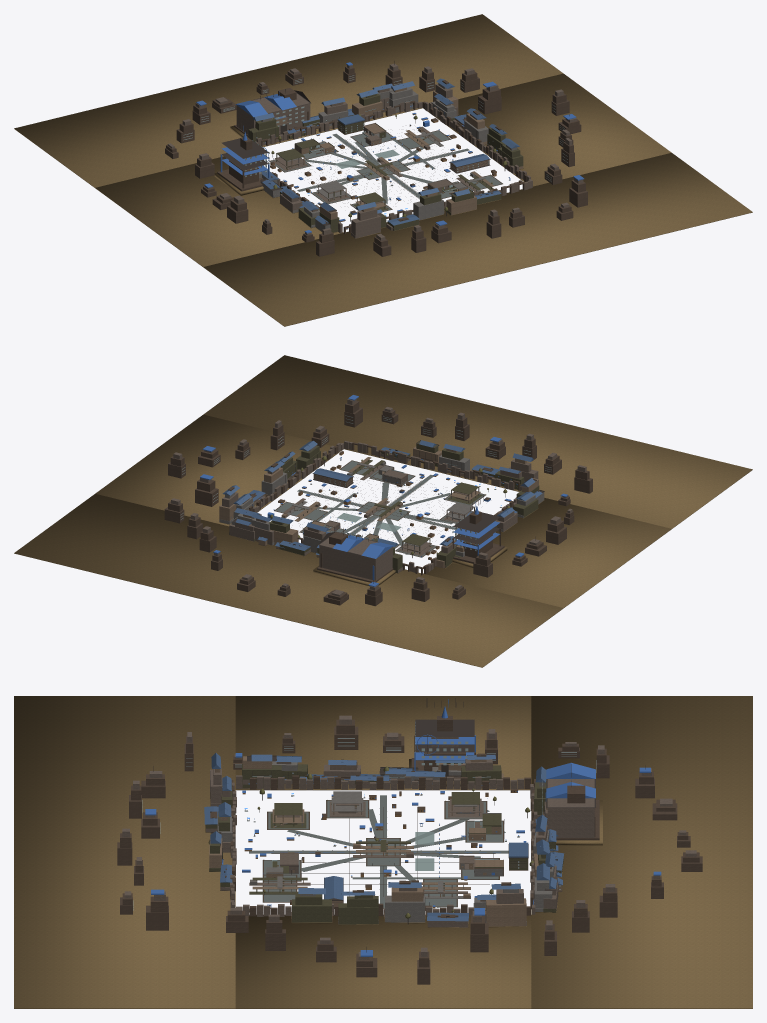
Rendered from onsengai-lod0.glb.
3 views of the same model, one above another, from view 1: azimuth 30°, elevation 25°; view 2: azimuth 150°, elevation 25°; view 3: azimuth 270°, elevation 25° (orthographic). The views are drawn at different scales.
Visible parts, largest first — view 1: HB_onsengai_LOD0_terrain, HB_onsengai_LOD0_wall_alt, HB_onsengai_LOD0_wall, HB_onsengai_LOD0_wall_weathered, HB_onsengai_LOD0_wall_cool, HB_onsengai_LOD0_road, HB_onsengai_LOD0_roof, HB_onsengai_LOD0_wall_warm, HB_onsengai_LOD0_LANDMARK_0_wall, HB_onsengai_LOD0_LANDMARK_1_wall_alt, HB_onsengai_LOD0_accent, HB_onsengai_LOD0_LANDMARK_1_trim (+3 smaller); view 2: HB_onsengai_LOD0_terrain, HB_onsengai_LOD0_wall_alt, HB_onsengai_LOD0_wall, HB_onsengai_LOD0_wall_weathered, HB_onsengai_LOD0_road, HB_onsengai_LOD0_roof, HB_onsengai_LOD0_wall_warm, HB_onsengai_LOD0_wall_cool, HB_onsengai_LOD0_LANDMARK_0_wall, HB_onsengai_LOD0_accent, HB_onsengai_LOD0_LANDMARK_1_trim, HB_onsengai_LOD0_LANDMARK_1_wall_alt (+3 smaller); view 3: HB_onsengai_LOD0_terrain, HB_onsengai_LOD0_wall_alt, HB_onsengai_LOD0_wall, HB_onsengai_LOD0_wall_weathered, HB_onsengai_LOD0_road, HB_onsengai_LOD0_roof, HB_onsengai_LOD0_wall_warm, HB_onsengai_LOD0_wall_cool, HB_onsengai_LOD0_LANDMARK_0_wall, HB_onsengai_LOD0_trim, HB_onsengai_LOD0_LANDMARK_1_trim, HB_onsengai_LOD0_accent (+4 smaller).
Boxes of the visible parts, x1,y1,x2,y2 form: HB_onsengai_LOD0_terrain: (14, 14, 752, 326); HB_onsengai_LOD0_wall_alt: (165, 66, 587, 256); HB_onsengai_LOD0_wall: (167, 63, 583, 240); HB_onsengai_LOD0_wall_weathered: (248, 93, 523, 232); HB_onsengai_LOD0_wall_cool: (259, 83, 516, 231); HB_onsengai_LOD0_road: (269, 130, 509, 215); HB_onsengai_LOD0_roof: (253, 78, 519, 225); HB_onsengai_LOD0_wall_warm: (276, 87, 523, 219); HB_onsengai_LOD0_LANDMARK_0_wall: (236, 93, 310, 134); HB_onsengai_LOD0_LANDMARK_1_wall_alt: (217, 137, 263, 191); HB_onsengai_LOD0_accent: (196, 62, 584, 233); HB_onsengai_LOD0_LANDMARK_1_trim: (222, 123, 268, 177); HB_onsengai_LOD0_terrain: (14, 355, 752, 667); HB_onsengai_LOD0_wall_alt: (164, 401, 592, 606); HB_onsengai_LOD0_wall: (171, 399, 586, 596); HB_onsengai_LOD0_wall_weathered: (229, 441, 539, 573); HB_onsengai_LOD0_road: (275, 459, 501, 557); HB_onsengai_LOD0_roof: (222, 440, 542, 554); HB_onsengai_LOD0_wall_warm: (219, 446, 538, 568); HB_onsengai_LOD0_wall_cool: (219, 445, 544, 556); HB_onsengai_LOD0_LANDMARK_0_wall: (319, 532, 392, 580); HB_onsengai_LOD0_accent: (200, 395, 567, 586); HB_onsengai_LOD0_LANDMARK_1_trim: (453, 495, 499, 549); HB_onsengai_LOD0_LANDMARK_1_wall_alt: (452, 511, 504, 563); HB_onsengai_LOD0_terrain: (14, 696, 752, 1008); HB_onsengai_LOD0_wall_alt: (117, 719, 702, 984); HB_onsengai_LOD0_wall: (122, 715, 696, 959); HB_onsengai_LOD0_wall_weathered: (205, 763, 563, 924); HB_onsengai_LOD0_road: (244, 794, 519, 908); HB_onsengai_LOD0_roof: (204, 753, 564, 921); HB_onsengai_LOD0_wall_warm: (209, 756, 561, 927); HB_onsengai_LOD0_wall_cool: (217, 761, 555, 925); HB_onsengai_LOD0_LANDMARK_0_wall: (547, 779, 594, 837); HB_onsengai_LOD0_trim: (153, 755, 645, 952); HB_onsengai_LOD0_LANDMARK_1_trim: (415, 698, 474, 778); HB_onsengai_LOD0_accent: (145, 753, 661, 956).
Size of the model in its own units: 700 by 81.19 by 700.
15 materials, 12 textured.
